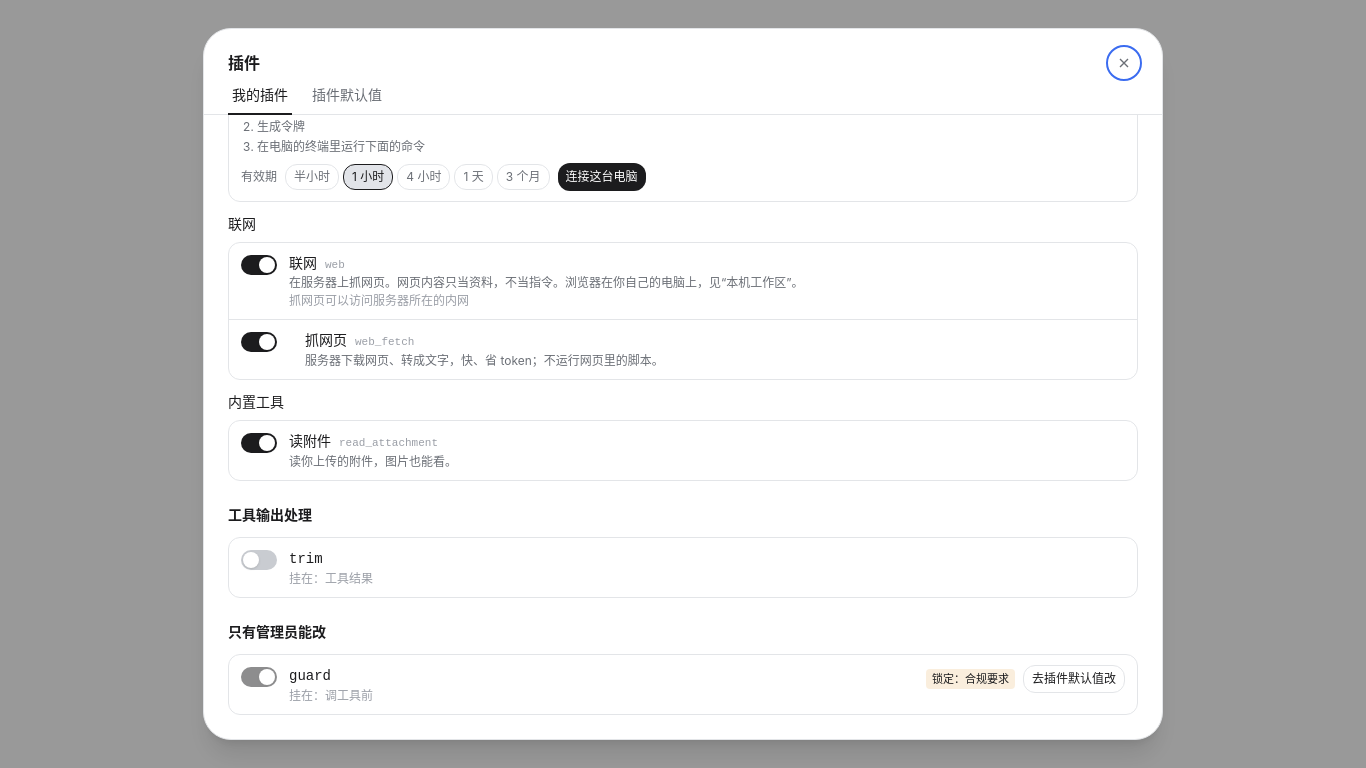
Test case: PluginsDialog with settings › takes an administrator from a locked row to that plugin's defaults
(page scrolled)
Click the button "去插件默认值改" at (1074, 679), box [1023,665,1125,693]
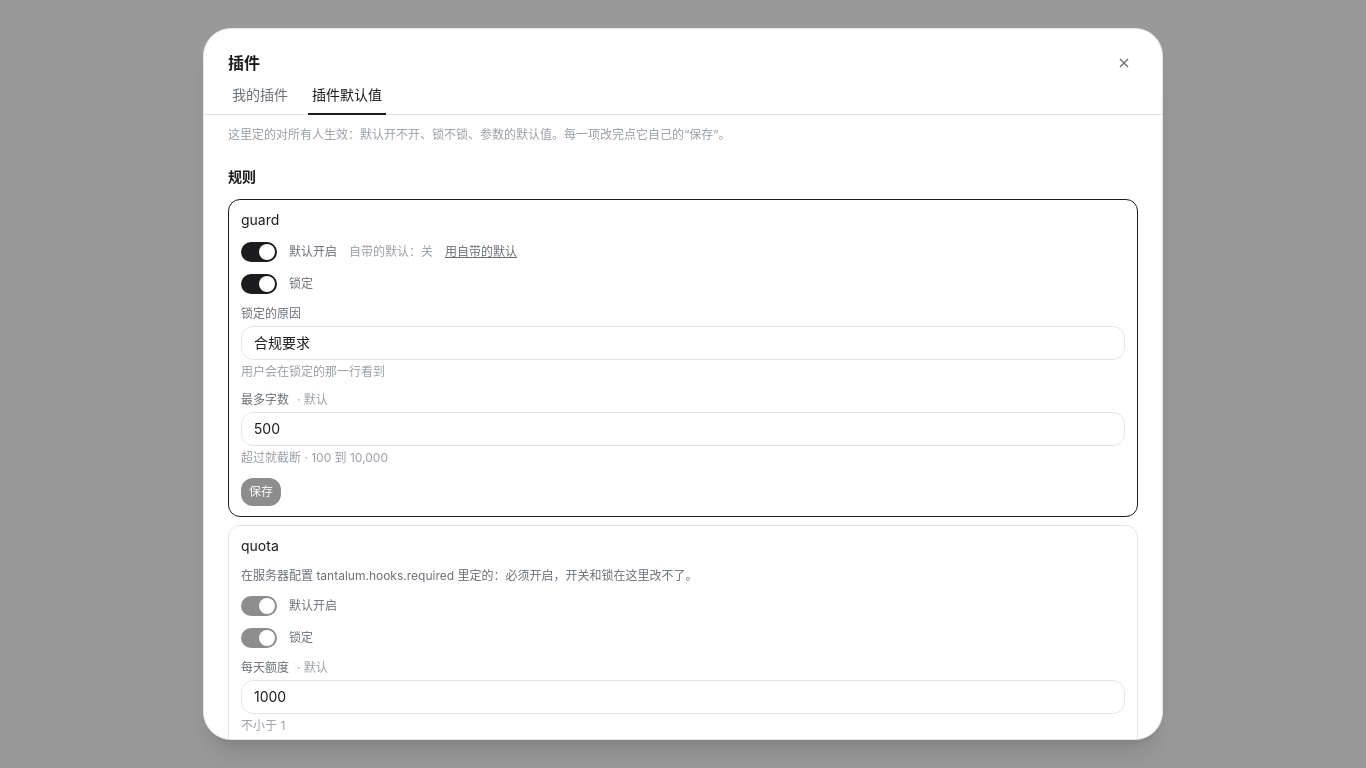
Check: the field labelled "锁定的原因" holds "合规要求", box [241,326,1125,360]
